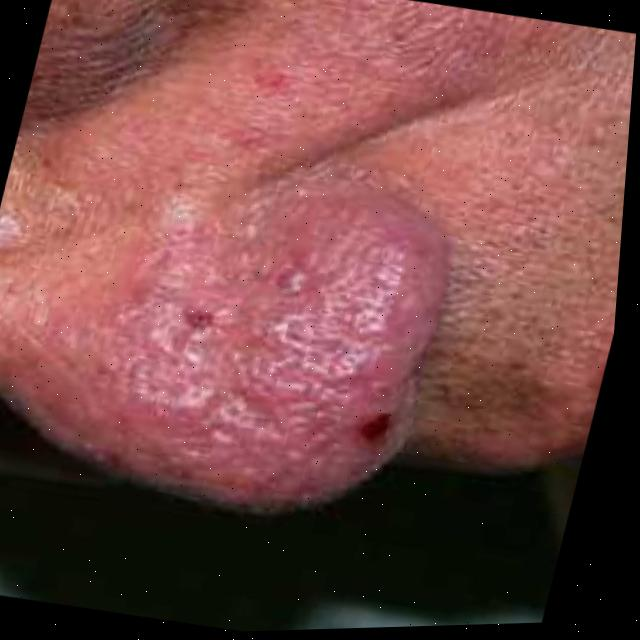Rosacea: (35, 164, 444, 515)
